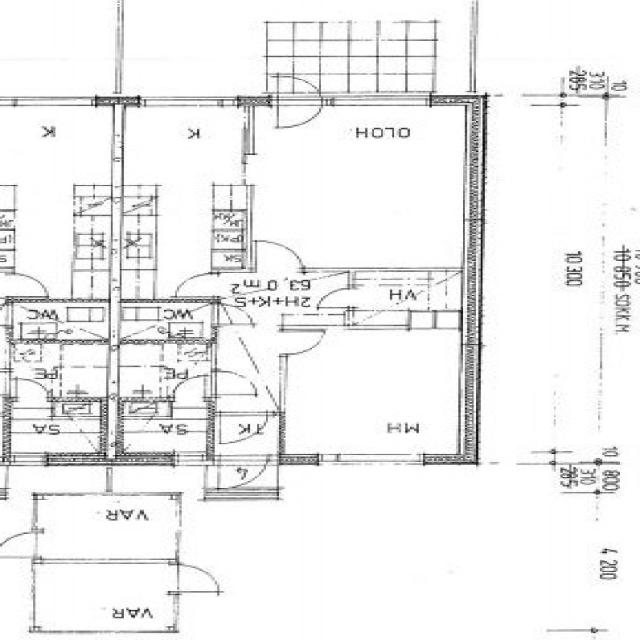door: (270, 76, 325, 132), (210, 451, 270, 493), (212, 410, 272, 448), (249, 237, 307, 274), (169, 562, 226, 595), (170, 270, 222, 300), (278, 326, 330, 356), (207, 368, 258, 398), (0, 270, 51, 300), (0, 531, 42, 559), (170, 374, 210, 403), (9, 374, 51, 400), (312, 285, 352, 312), (213, 302, 255, 327)
window: (324, 91, 436, 111), (312, 451, 424, 470), (39, 554, 169, 568), (130, 94, 241, 109), (3, 94, 101, 110), (10, 451, 53, 467)
zone: (243, 102, 476, 273), (278, 322, 475, 463), (128, 100, 244, 284), (0, 104, 119, 200), (29, 562, 176, 634), (342, 266, 467, 326), (112, 344, 210, 412), (9, 342, 110, 400), (3, 412, 108, 460), (113, 414, 215, 459), (4, 300, 109, 341), (118, 299, 215, 341), (118, 342, 209, 374), (4, 340, 59, 374), (66, 272, 119, 301)
